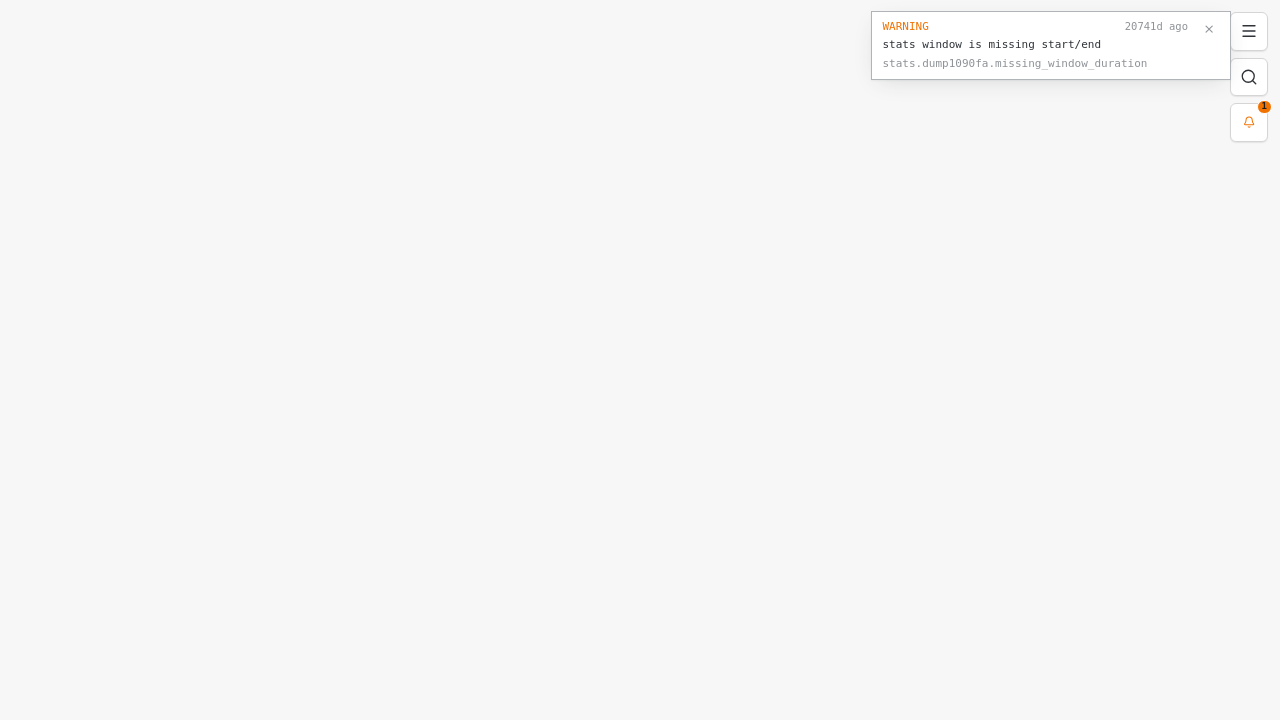
it: MobileShell › opens diagnostics from a separate right-edge mobile button
The image size is (1280, 720).
Click the button named "Open diagnostics". click: (1249, 122)
box: [1230,103,1268,142]
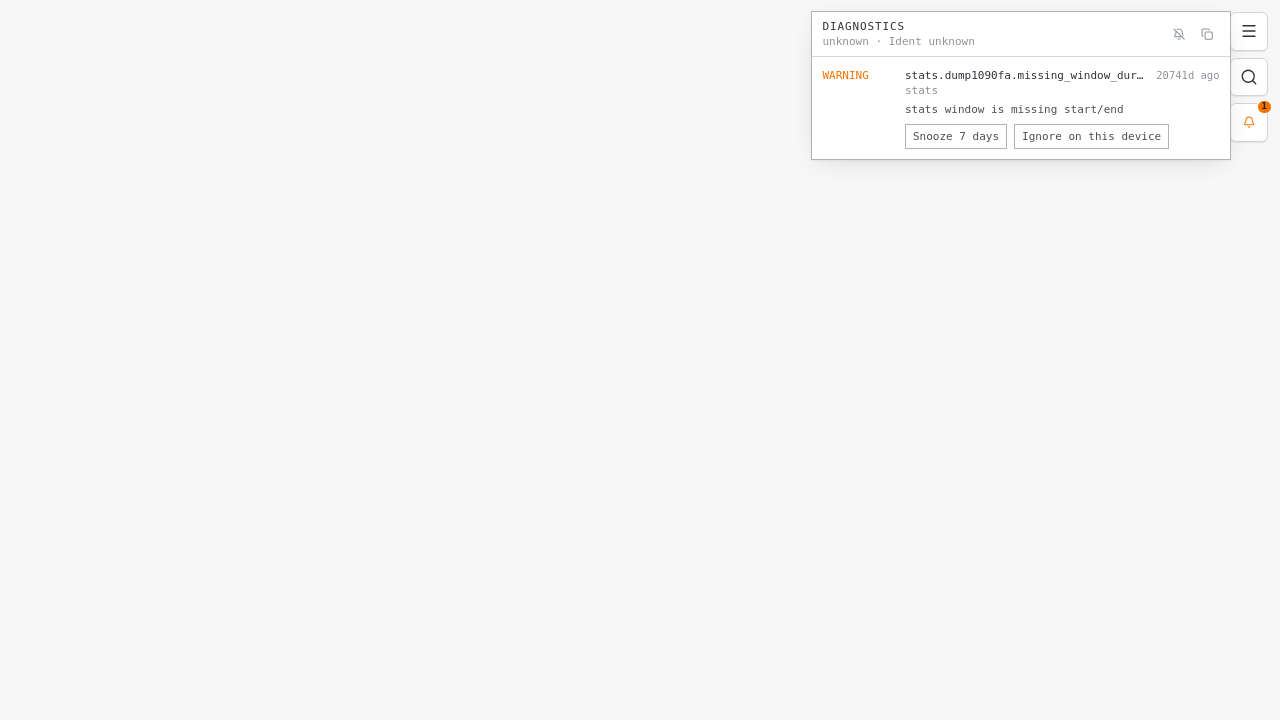
Expected: the dialog named "Diagnostics" is shown, [811,10,1231,160]
Expected: the dialog named "Diagnostics" shows "stats.dump1090fa.missing_window_duration", [905,69,1170,82]
